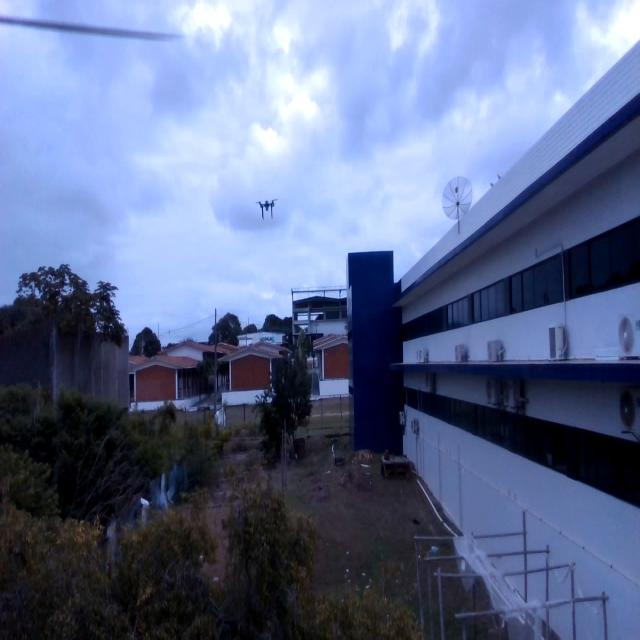-uav-: (251, 194, 289, 230)
